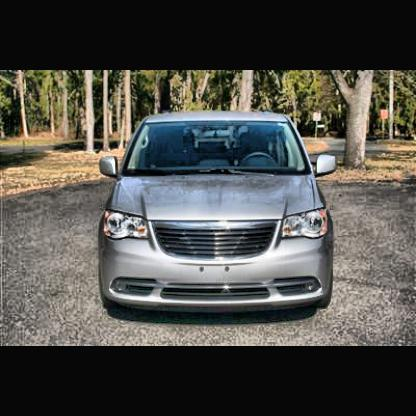Chrysler Town and Country Minivan 2012: (99, 110, 335, 308)
